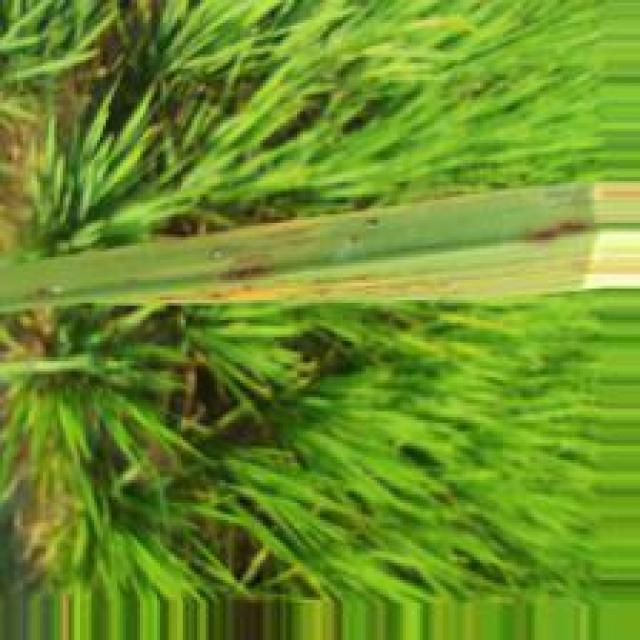Narrow_Brown_Leaf_Spot: (528, 218, 598, 246), (213, 266, 282, 283)
